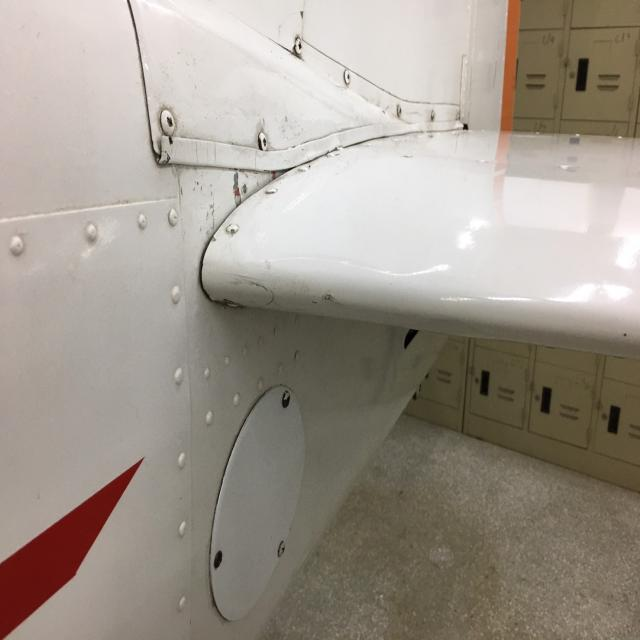Rupture: (164, 150, 283, 278), (257, 4, 323, 67), (288, 276, 371, 317)
